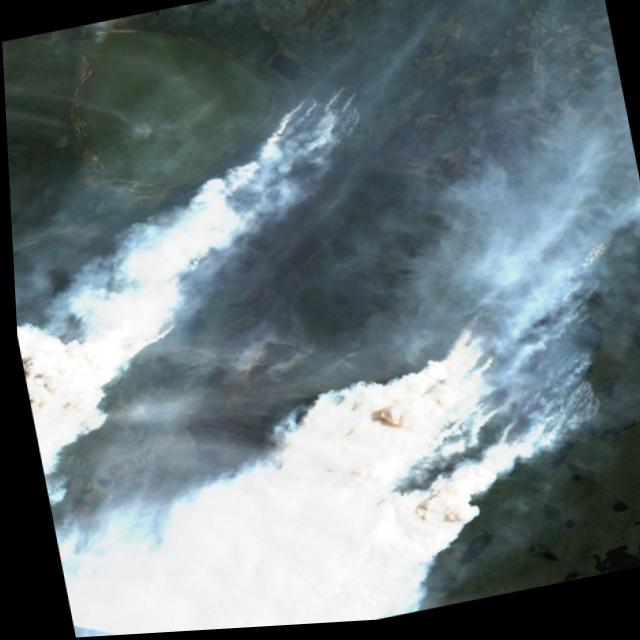fire: (3, 45, 640, 594)
